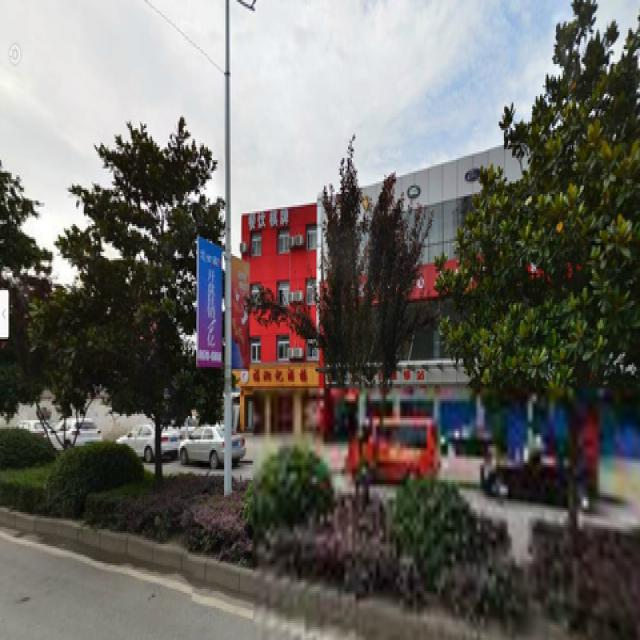magn: (499, 24, 633, 563), (89, 132, 192, 476)
